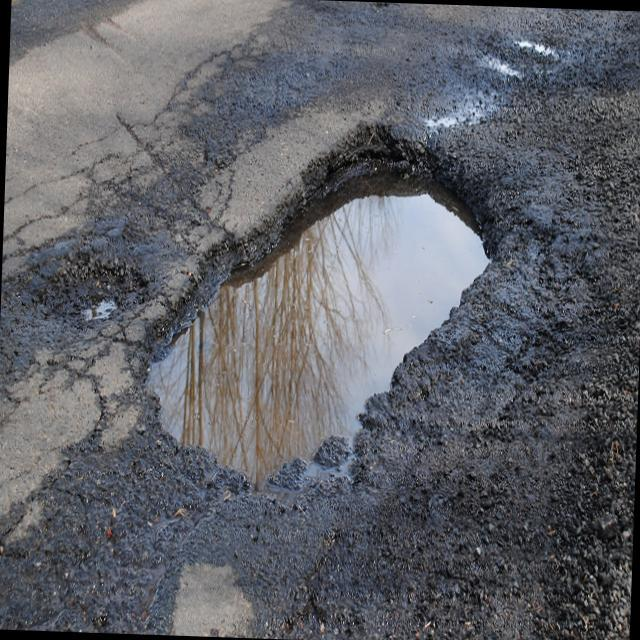Pothole: (137, 86, 553, 490), (137, 527, 287, 639), (29, 240, 156, 336), (404, 64, 498, 124), (470, 41, 545, 108), (515, 34, 575, 82)
